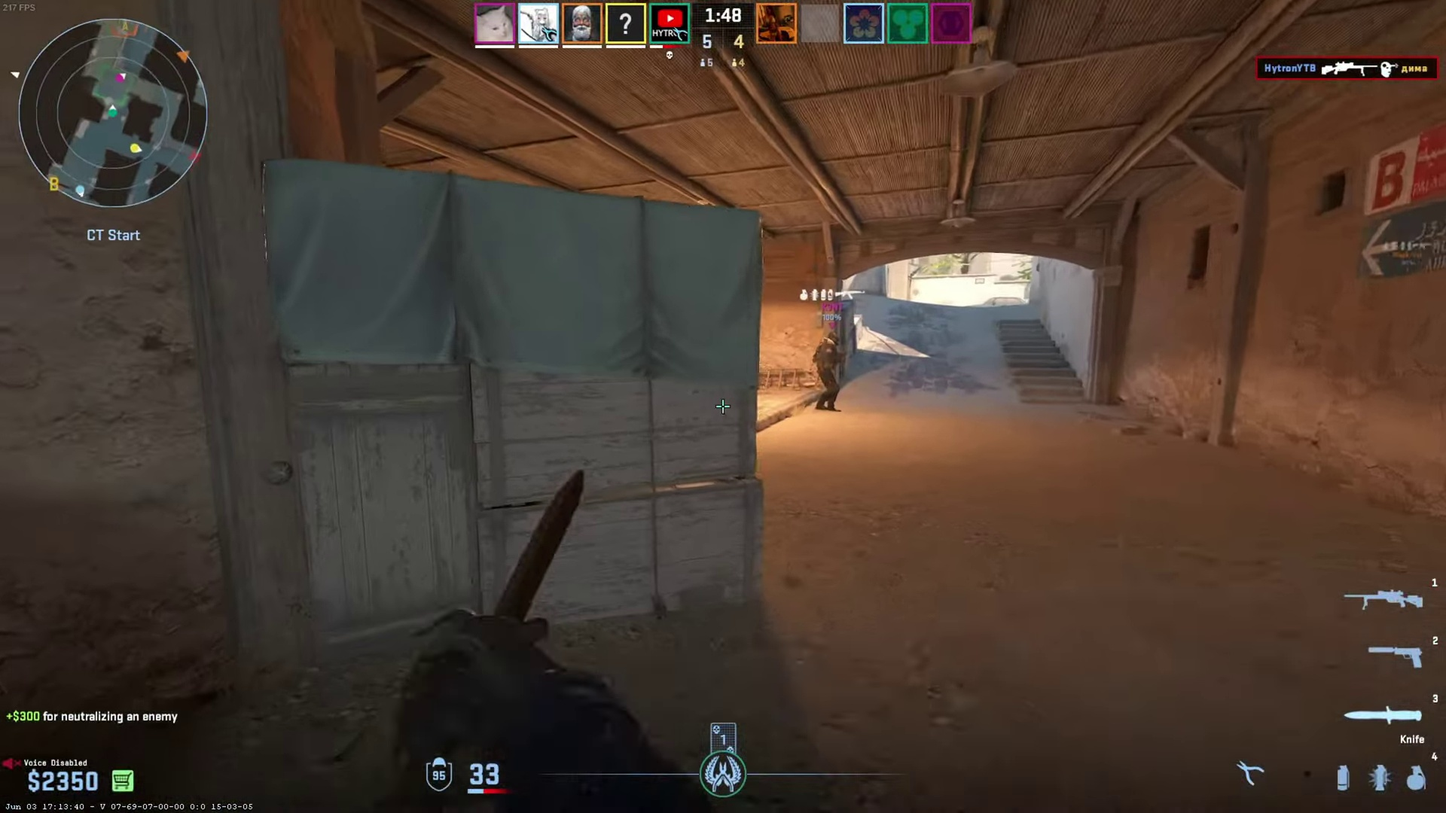CT: (815, 333, 840, 411)
